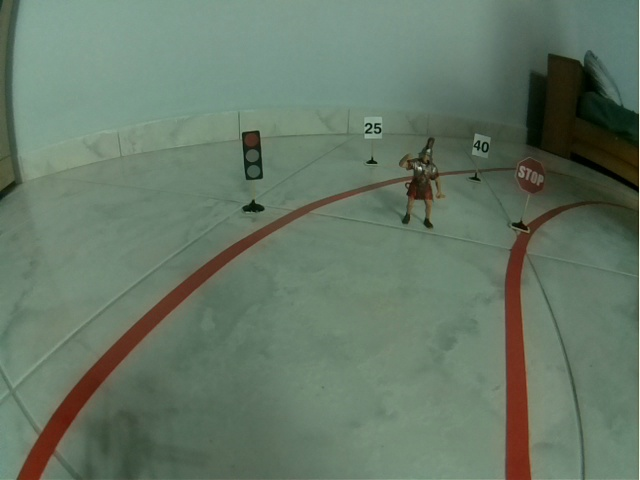Person: (399, 137, 447, 230)
Red Traffic Light: (241, 130, 264, 181)
Speed Limit 25: (363, 117, 383, 139)
Speed Limit 40: (471, 133, 492, 159)
Stop: (514, 156, 546, 196)
